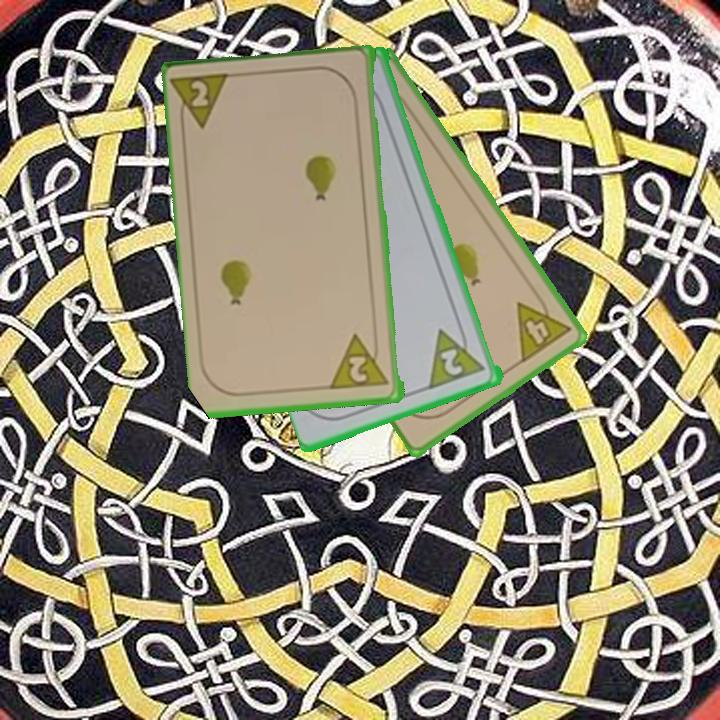2p: (426, 319, 490, 392), (171, 70, 236, 135), (329, 330, 392, 393)
4p: (513, 287, 574, 366)
